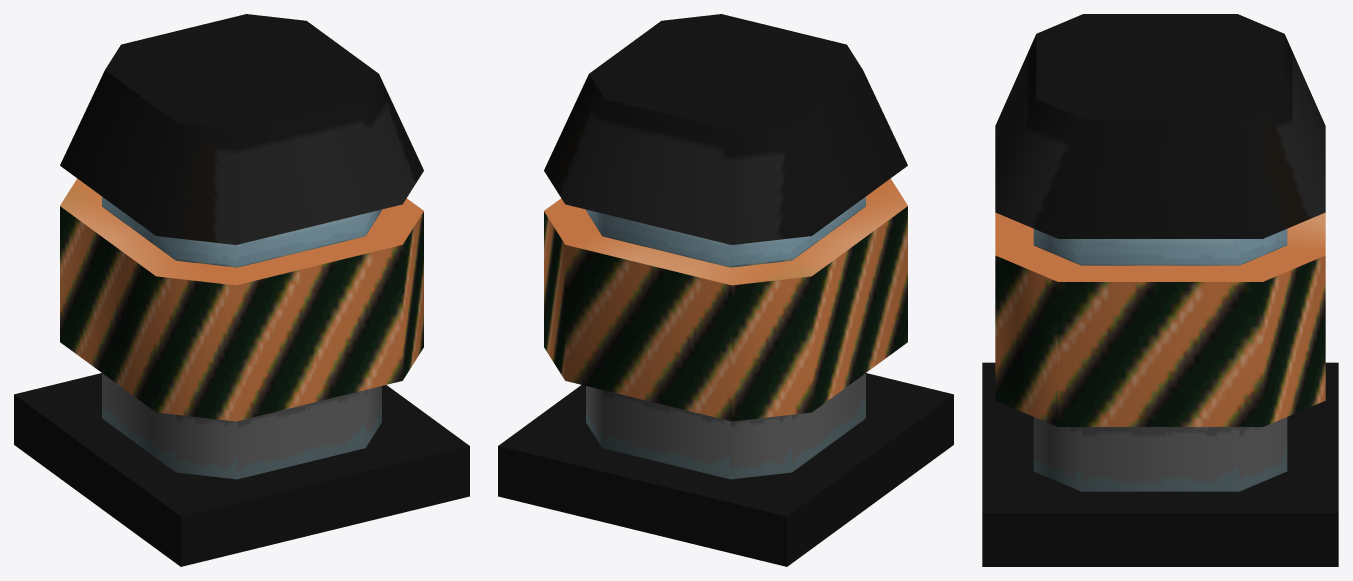
Rendered from firestuff.FBX.
The picture shows the model from 3 angles, left to right: view 1: azimuth 30°, elevation 25°; view 2: azimuth 150°, elevation 25°; view 3: azimuth 270°, elevation 25°; orthographic projection. The views are drawn at different scales.
Parts seen in each view (by area): view 1: firestuff; view 2: firestuff; view 3: firestuff.
Part boxes in pixels (x1,y1,x2,y2): firestuff: (14, 14, 469, 566); firestuff: (498, 14, 953, 566); firestuff: (982, 14, 1338, 566).
Size of the model in its own units: 60 by 60 by 79.08.
Materials: 1 (1 with a texture image).
